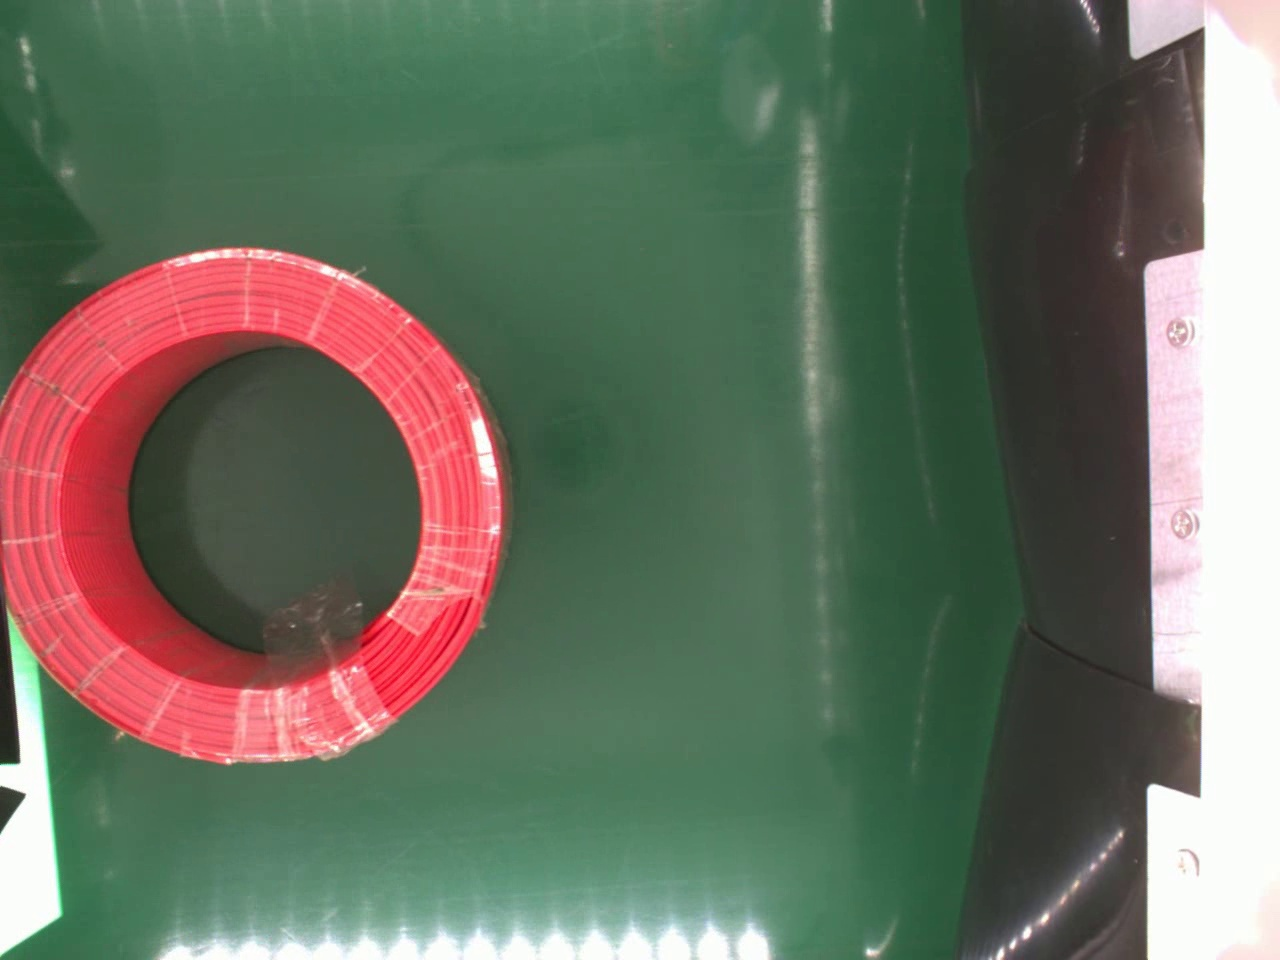red: (0, 247, 511, 769)
